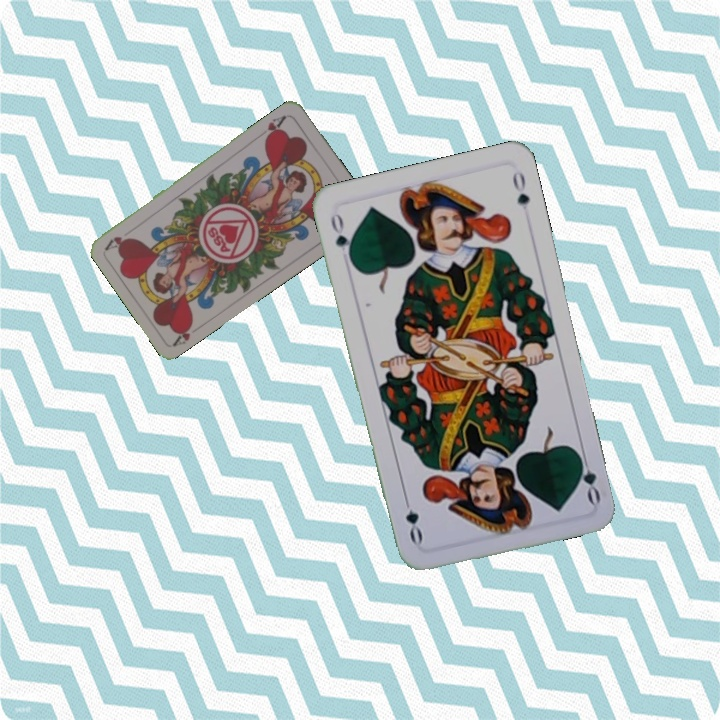GO: (573, 447, 603, 506), (326, 208, 355, 265)
HA: (170, 318, 205, 348), (260, 111, 289, 144)
